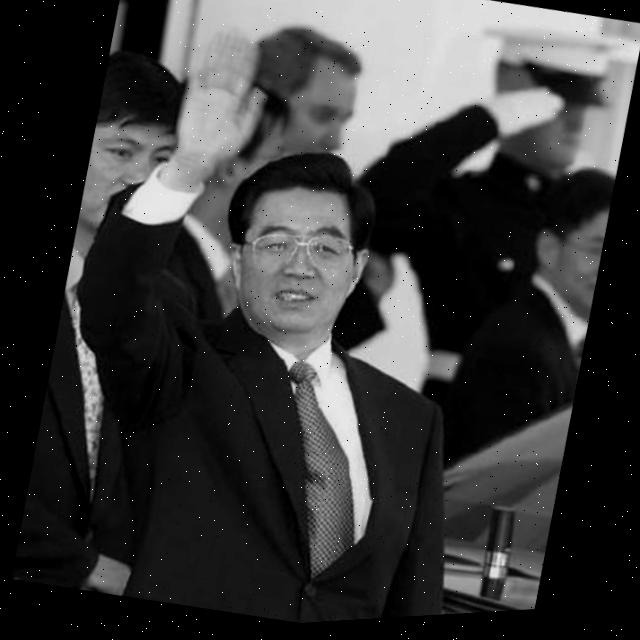face: (199, 151, 387, 348), (72, 55, 200, 262)
